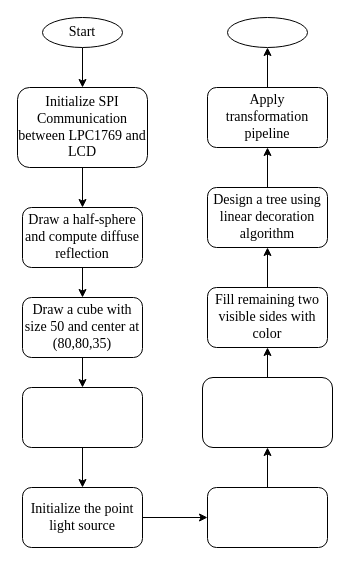
Some shapes in this 350 by 565 pixel diagram are drawn without their labels. Here are the shapes that lost their labels. From the top down, the box of each, then its label:
(226, 16, 308, 48): End
(22, 386, 142, 448): Rotate the cube with respect to an arbitrary vector
(202, 376, 332, 448): Compute diffuse reflection on boundaries and top surface
(206, 486, 328, 548): Calculate shadow points on X-Y plane
